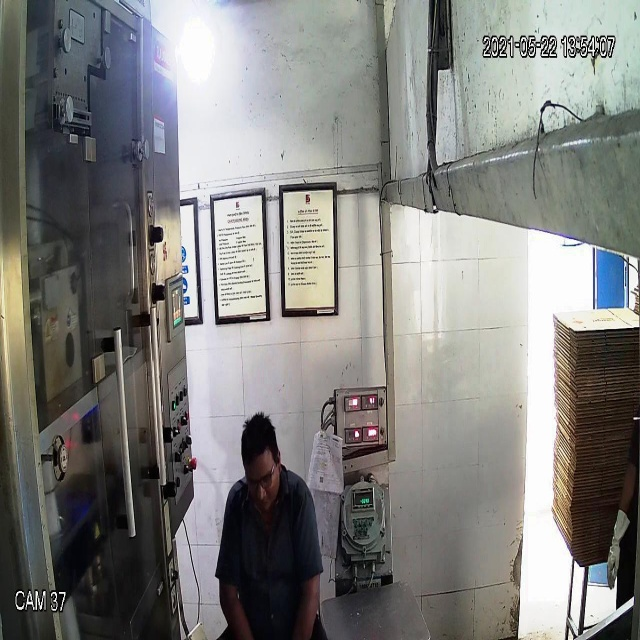Gafas: (243, 461, 279, 494)
